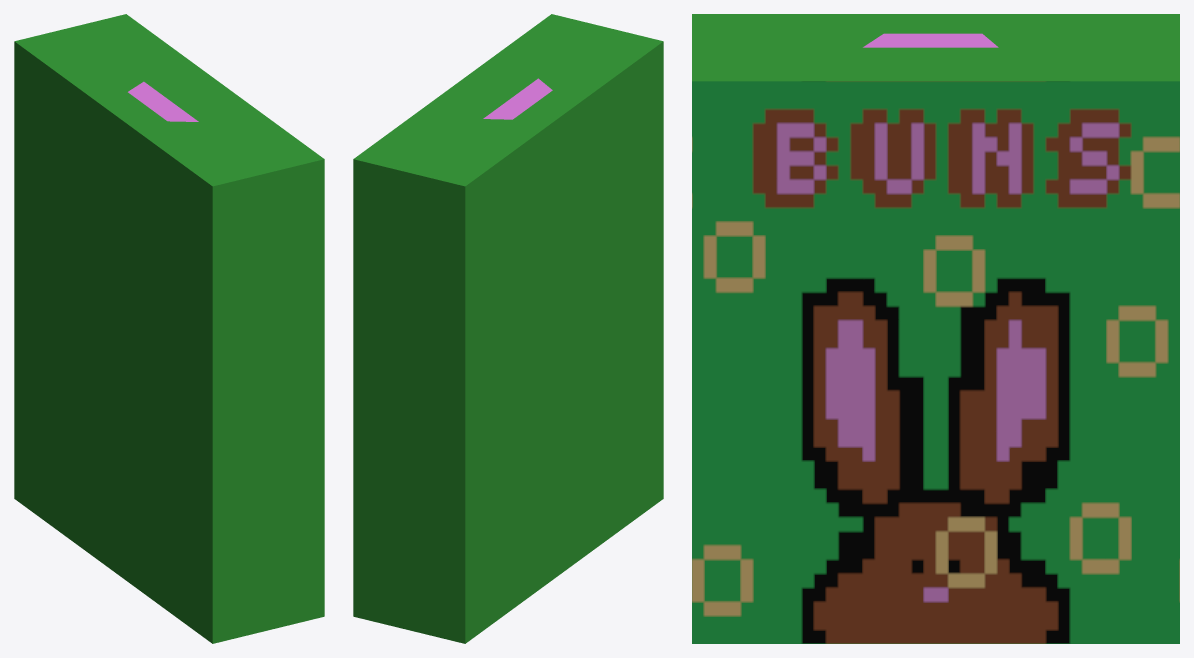
The model's file is Bunnyos.fbx.
The picture shows the model from 3 angles, left to right: view 1: azimuth 30°, elevation 25°; view 2: azimuth 150°, elevation 25°; view 3: azimuth 270°, elevation 25°; orthographic projection. The views are drawn at different scales.
Visible parts, largest first — view 1: Cube; view 2: Cube; view 3: Cube.
Part boxes in pixels (box(x1,y1,x2,y2)): Cube: box(14, 14, 324, 643); Cube: box(353, 14, 663, 643); Cube: box(692, 14, 1179, 643).
Size of the model in its own units: 108 by 421 by 331.
